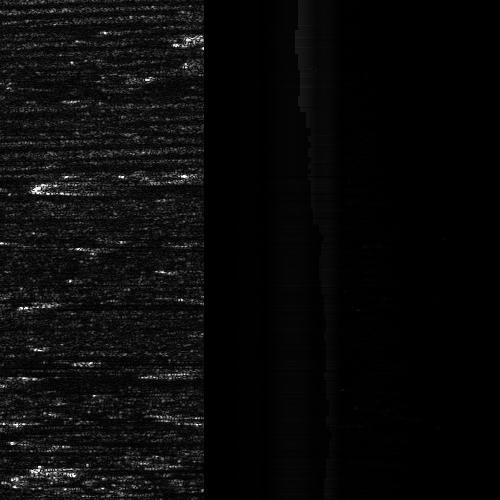object: (7, 295, 60, 306), (67, 180, 120, 189), (0, 374, 21, 383)
shadow: (34, 295, 199, 306), (0, 213, 140, 224), (0, 374, 127, 383), (94, 180, 179, 189), (0, 374, 76, 383), (0, 447, 53, 454)
